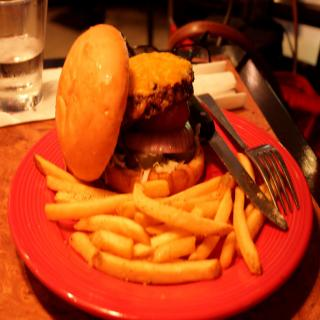French fries: (35, 156, 279, 292)
Hamburger: (54, 24, 205, 197)
